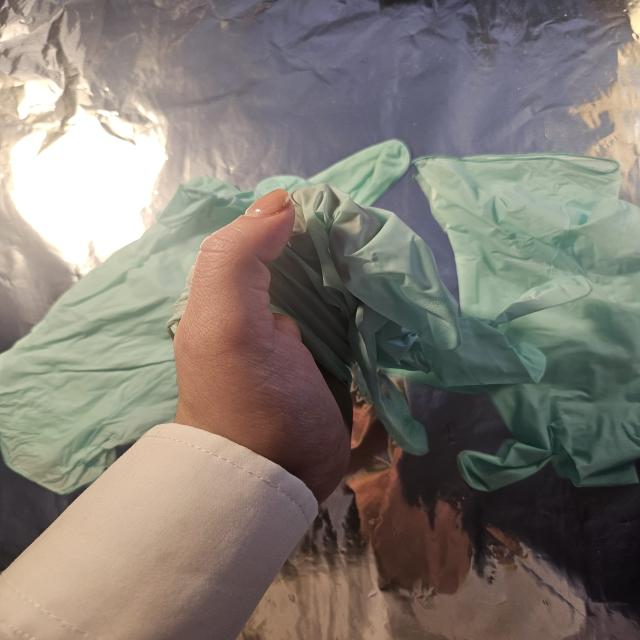glove_partial: (174, 181, 592, 492)
